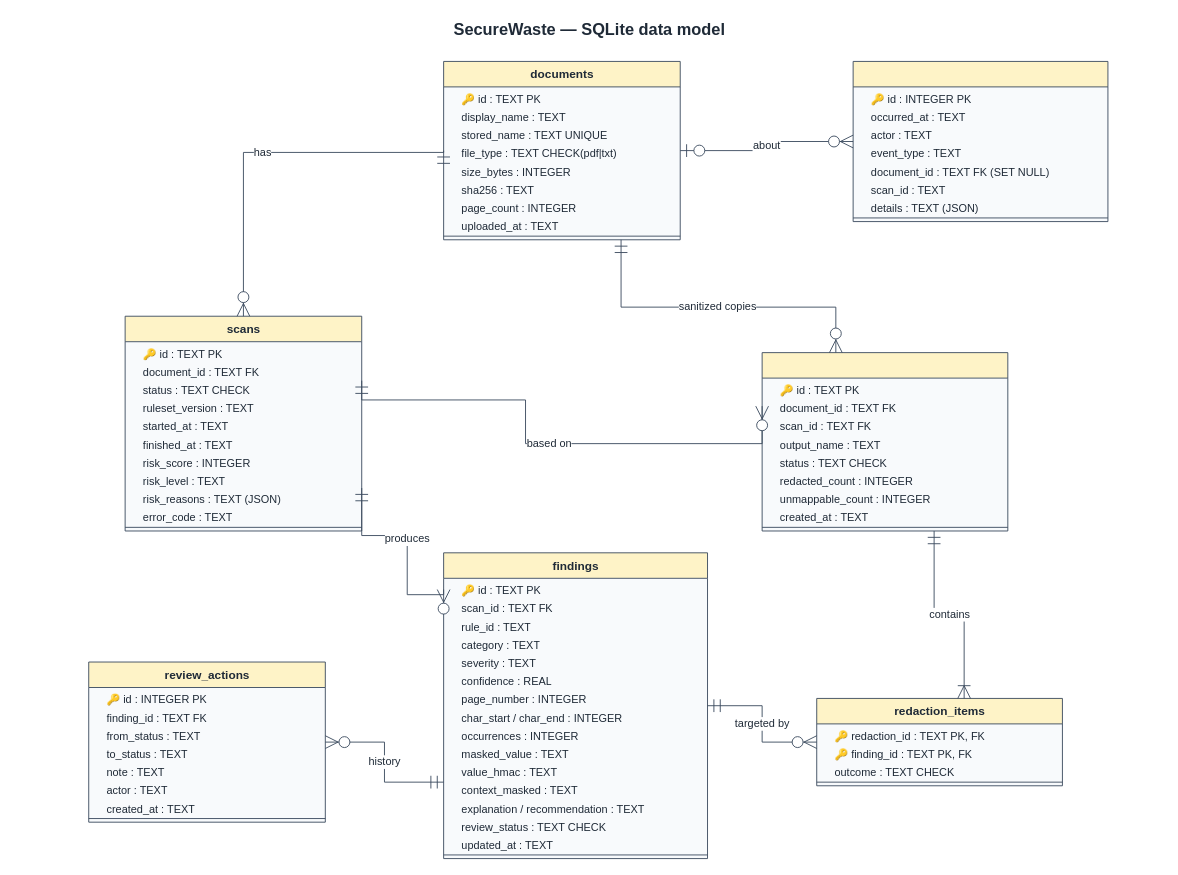
The diagram is 1178 pixels wide and 875 high, and some of its shapes have lost their labels. The shapes that lost their labels are listed below. From the top down, each one's box as (x1, y1, x2, y2) in pixels, then its label:
(852, 61, 1108, 222): audit_events
(761, 352, 1008, 531): redactions
